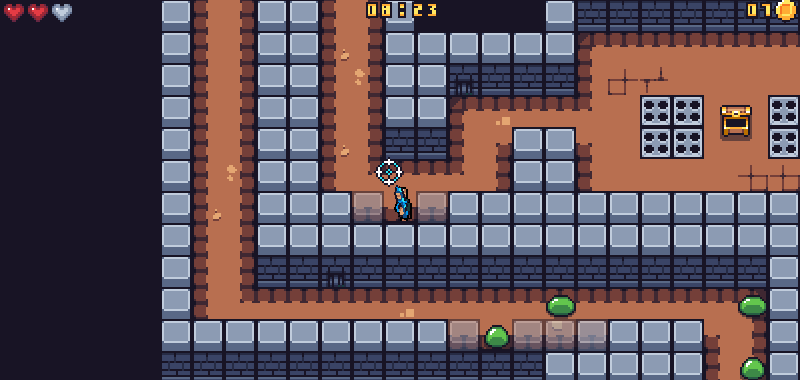enemy_slug: (735, 291, 769, 319), (544, 291, 578, 319), (481, 322, 513, 350), (736, 353, 769, 379)
trap_off: (637, 92, 706, 161), (766, 93, 800, 160)
treasury_open: (717, 101, 754, 141)
